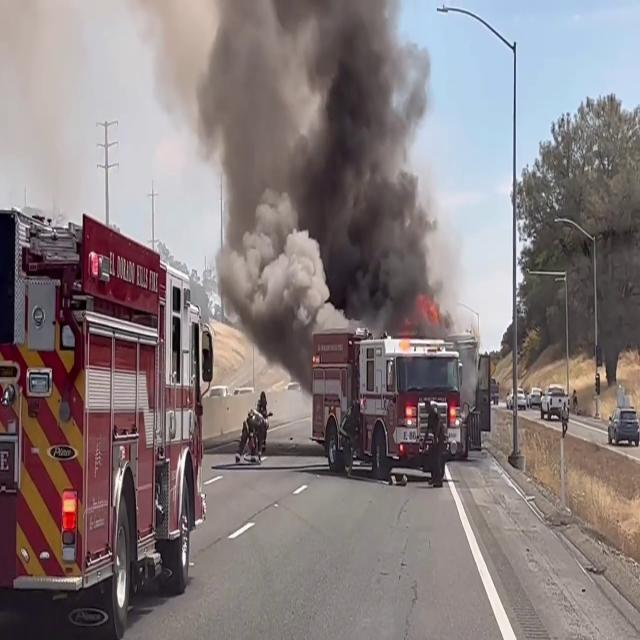Smoke: (184, 0, 450, 334)
